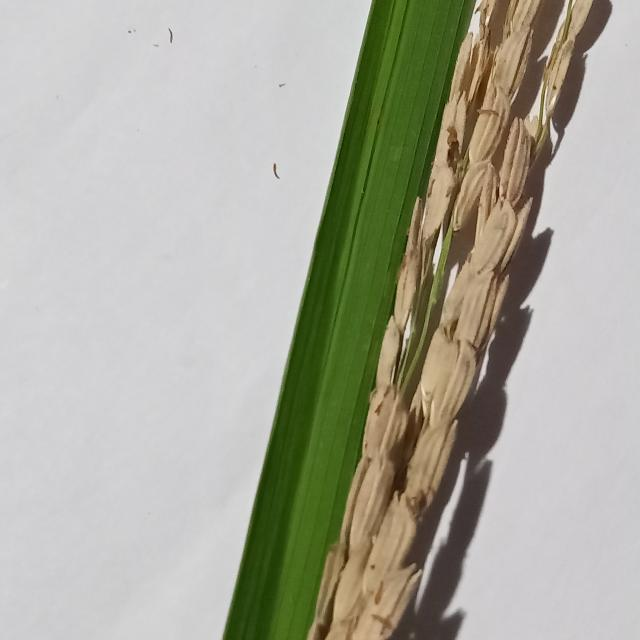Neck_Blast: (300, 0, 592, 640)
